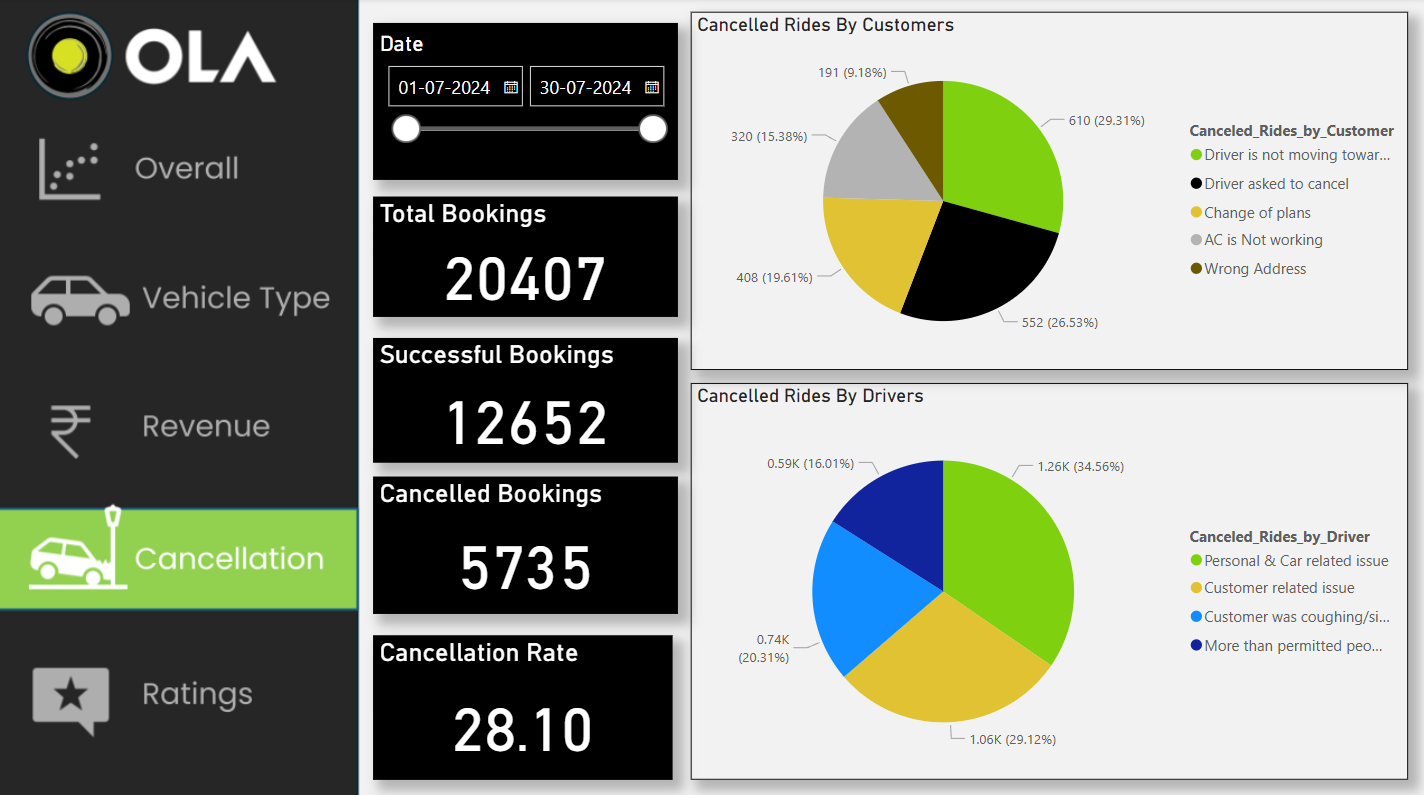

Layout of this report page (visuals, bound fields, positions):
{"tool":"powerbi","page":{"name":"Cancellation","canvas":[1280,720],"ordinal":3},"visuals":[{"type":"actionButton","box":[0,582.9,322.7,86],"z":0},{"type":"actionButton","box":[0,110.5,322.7,82.6],"z":1000},{"type":"actionButton","box":[0,231.1,322.7,82.6],"z":2000},{"type":"actionButton","box":[1.1,343.9,322.7,83.7],"z":3000},{"type":"pieChart","title":"Cancelled Rides By Customers","fields":{"Category":["Bookings-20000-Rows xlsx - July.Canceled_Rides_by_Customer"],"Y":["CountNonNull(Bookings-20000-Rows xlsx - July.Canceled_Rides_by_Customer)"]},"box":[620.2,12.3,640.8,319.7],"z":4000},{"type":"pieChart","title":"Cancelled Rides By Drivers","fields":{"Category":["Bookings-20000-Rows xlsx - July.Canceled_Rides_by_Driver"],"Y":["CountNonNull(Bookings-20000-Rows xlsx - July.Canceled_Rides_by_Driver)"]},"box":[620.2,344.4,640.8,354],"z":5000},{"type":"slicer","title":"Date","fields":{"Values":["Bookings-20000-Rows xlsx - July.Date"]},"box":[336.2,22,271.7,140],"z":6000},{"type":"card","title":"Total Bookings","fields":{"Values":["CountNonNull(Bookings-20000-Rows xlsx - July.Booking_ID)"]},"box":[336.2,177,271.7,107],"z":7000},{"type":"card","title":"Successful Bookings","fields":{"Values":["CountNonNull(Bookings-20000-Rows xlsx - July.Booking_ID)"]},"box":[336.2,303.3,271.7,111.1],"z":8000},{"type":"card","title":"Cancelled Bookings","fields":{"Values":["CountNonNull(Bookings-20000-Rows xlsx - July.Booking_ID)"]},"box":[336.2,428.1,271.7,122.1],"z":9000},{"type":"card","title":"Cancellation Rate","fields":{"Values":["Bookings-20000-Rows xlsx - July.CanceledPercentage"]},"box":[336.2,569.5,267.6,129],"z":10000}]}

Visuals, with their boxes in screenshot pixels (x1, y1, x2, y2), scaled from the page's 1280x720 canvas onto the 1424x795 screenshot:
actionButton: 0,644,359,739
actionButton: 0,122,359,213
actionButton: 0,255,359,346
actionButton: 1,380,360,472
"Cancelled Rides By Customers" pieChart: 690,14,1403,367
"Cancelled Rides By Drivers" pieChart: 690,380,1403,771
"Date" slicer: 374,24,676,179
"Total Bookings" card: 374,195,676,314
"Successful Bookings" card: 374,335,676,458
"Cancelled Bookings" card: 374,473,676,608
"Cancellation Rate" card: 374,629,672,771
